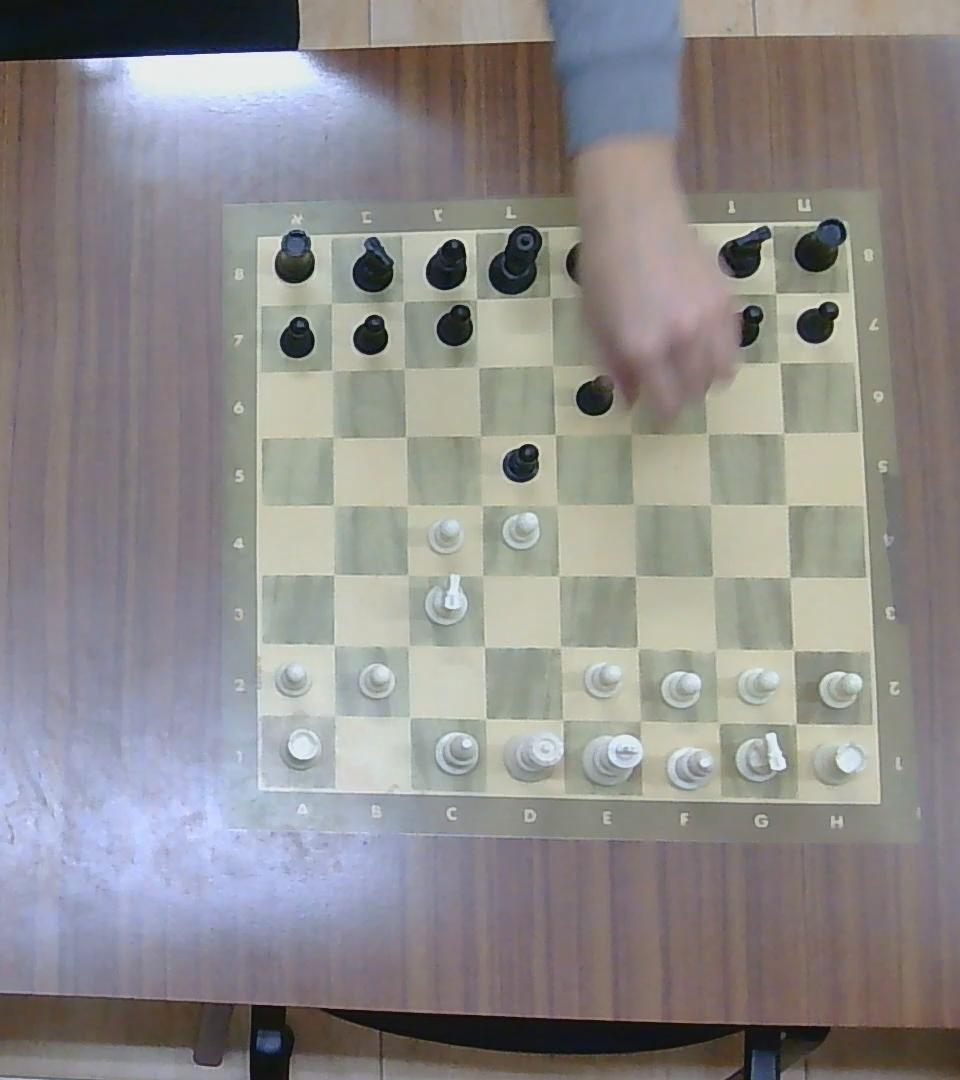xcorner: (777, 705, 811, 739), (622, 702, 656, 735), (701, 705, 734, 738), (620, 631, 653, 664), (546, 701, 578, 735), (543, 630, 575, 662), (318, 699, 350, 731), (468, 630, 499, 662), (687, 279, 718, 311), (469, 703, 500, 734), (774, 561, 805, 592), (698, 634, 730, 664), (393, 630, 423, 661), (393, 701, 423, 732), (698, 561, 728, 592), (776, 634, 807, 664), (620, 560, 650, 590), (543, 560, 573, 590), (319, 629, 349, 659), (467, 560, 496, 590), (319, 558, 348, 588), (393, 560, 422, 590), (316, 287, 345, 316), (460, 284, 489, 313), (536, 282, 565, 311), (543, 488, 571, 517), (621, 488, 649, 517), (319, 490, 348, 518), (467, 490, 495, 518), (317, 421, 345, 449), (464, 351, 491, 380), (616, 418, 645, 445), (772, 489, 801, 516), (693, 418, 722, 445), (393, 489, 421, 516), (317, 354, 345, 381), (769, 418, 797, 445), (612, 284, 639, 312), (696, 489, 723, 516), (542, 420, 569, 447), (389, 287, 416, 313), (686, 350, 714, 375), (392, 422, 418, 448), (540, 351, 566, 377), (615, 351, 641, 377), (762, 279, 789, 304), (466, 421, 491, 446), (390, 355, 415, 380), (767, 350, 791, 374)
